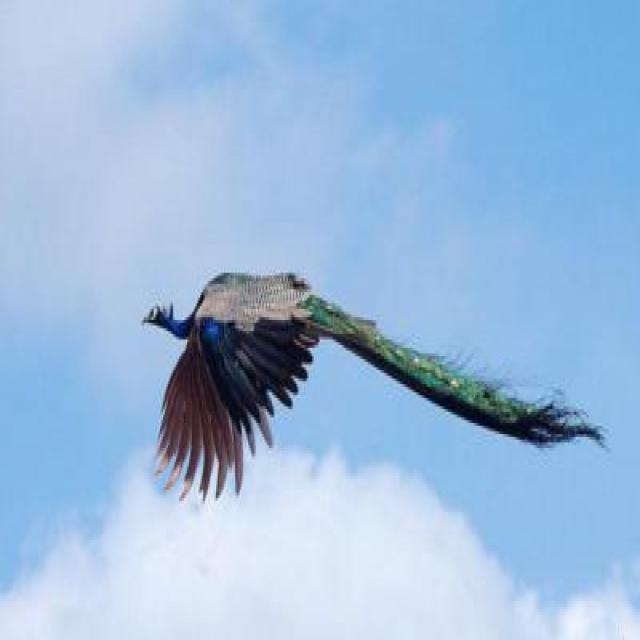birds: (135, 260, 618, 514)
